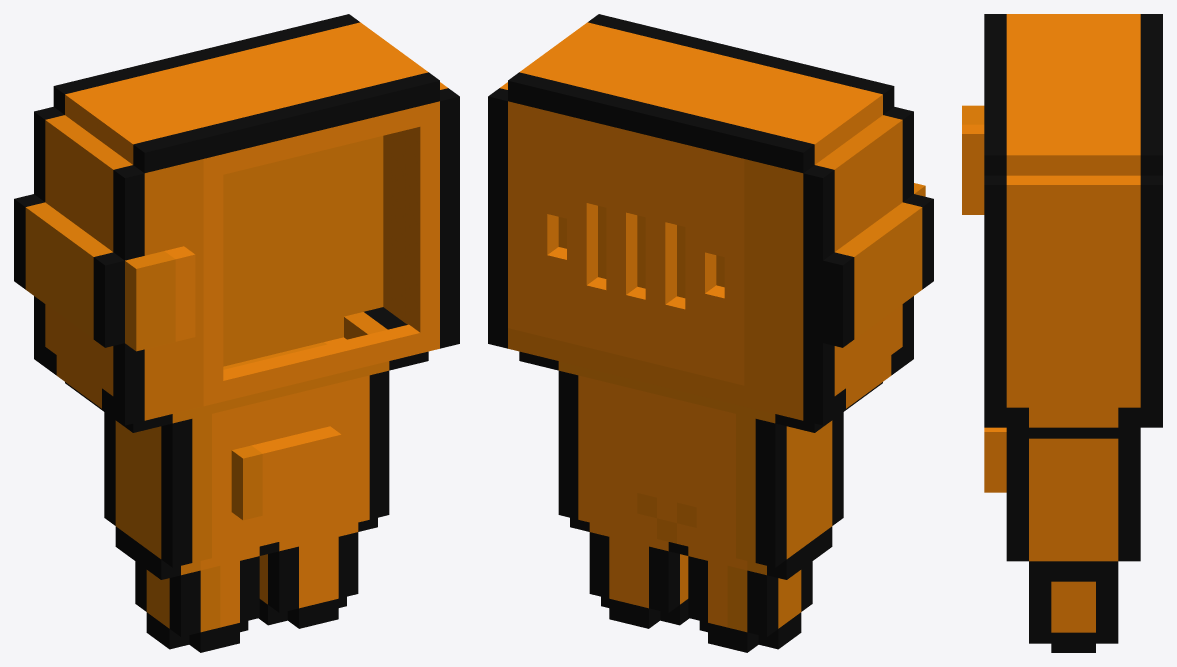
File: body_orange.glb
3 views of the same model, side by side, from view 1: azimuth 30°, elevation 25°; view 2: azimuth 150°, elevation 25°; view 3: azimuth 270°, elevation 25° (orthographic).
Parts seen in each view (by area): view 1: bb0 body; view 2: bb0 body; view 3: bb0 body.
Boxes of the visible parts, x1,y1,x2,y2 form: bb0 body: [14, 14, 459, 652]; bb0 body: [488, 14, 933, 652]; bb0 body: [962, 14, 1162, 652].
Size of the model in its own units: 18 by 26 by 9.
